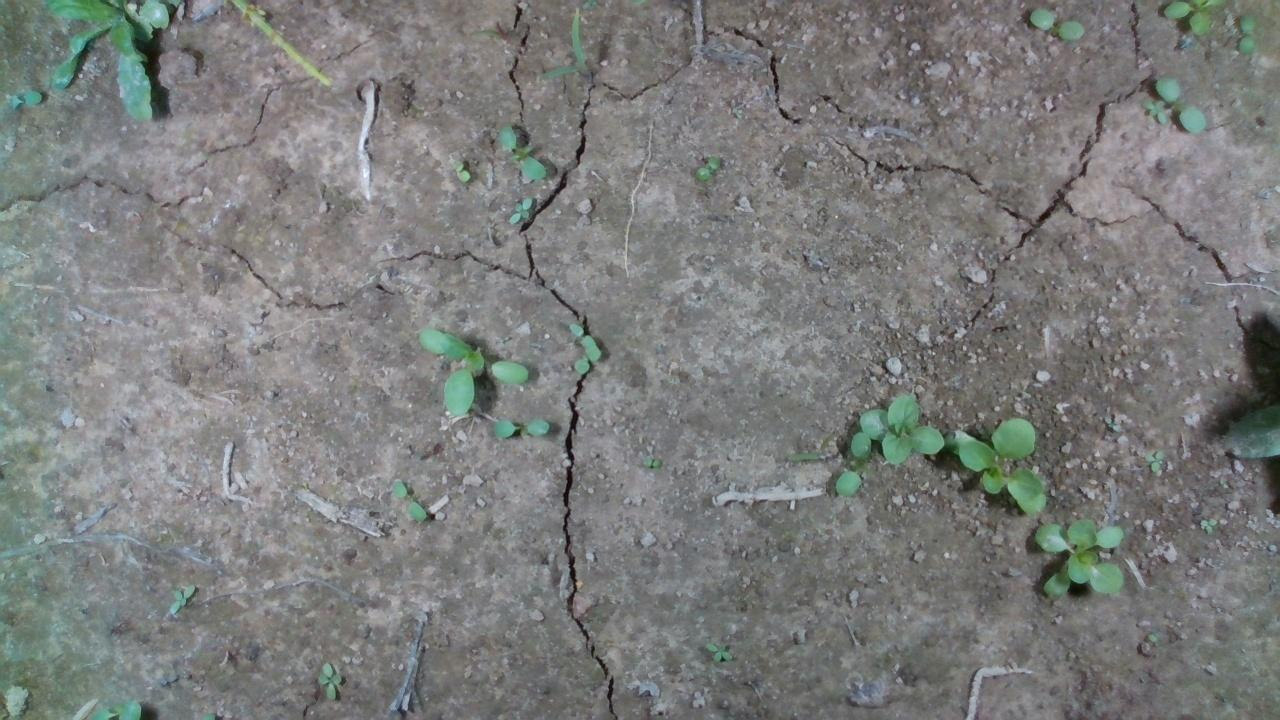weed: (496, 120, 553, 180), (1154, 76, 1208, 135), (489, 411, 572, 447), (1031, 1, 1090, 47), (383, 476, 431, 532), (698, 638, 740, 670), (505, 191, 538, 225), (687, 150, 721, 181), (315, 662, 342, 701), (160, 583, 192, 612), (1141, 444, 1169, 474), (446, 156, 474, 184), (1139, 98, 1168, 124), (1192, 513, 1232, 531), (1239, 14, 1257, 54), (640, 448, 659, 470)
